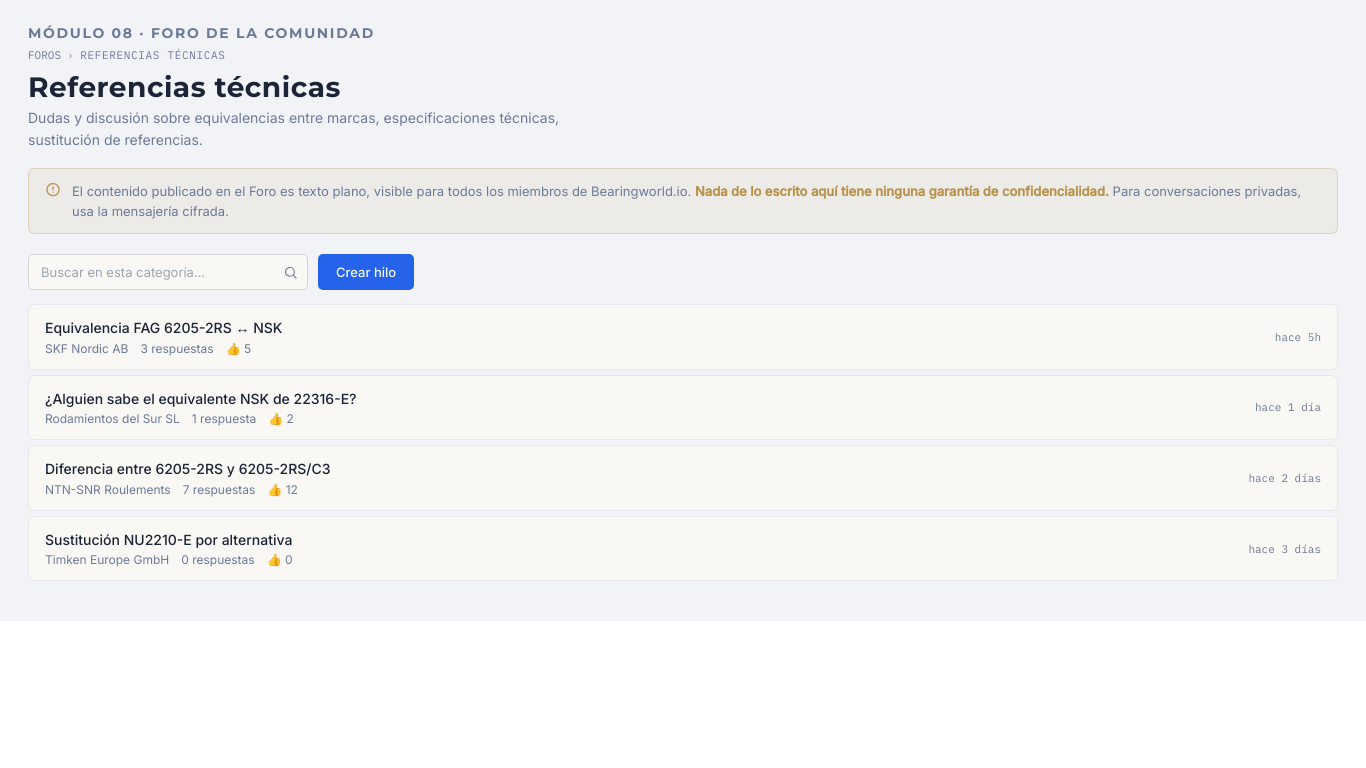
Test case: FORO-02 · cabecera (spec §3) › con el límite de RNG-FORO-06 alcanzado, "Crear hilo" NO abre el formulario y lo dice con los minutos
Check: the button "Equivalencia FAG 6205-2RS ↔ NSK" is shown, box [45,318,282,338]
Step 1. Click the button "Crear hilo" → (366, 272), box [318,254,414,290]
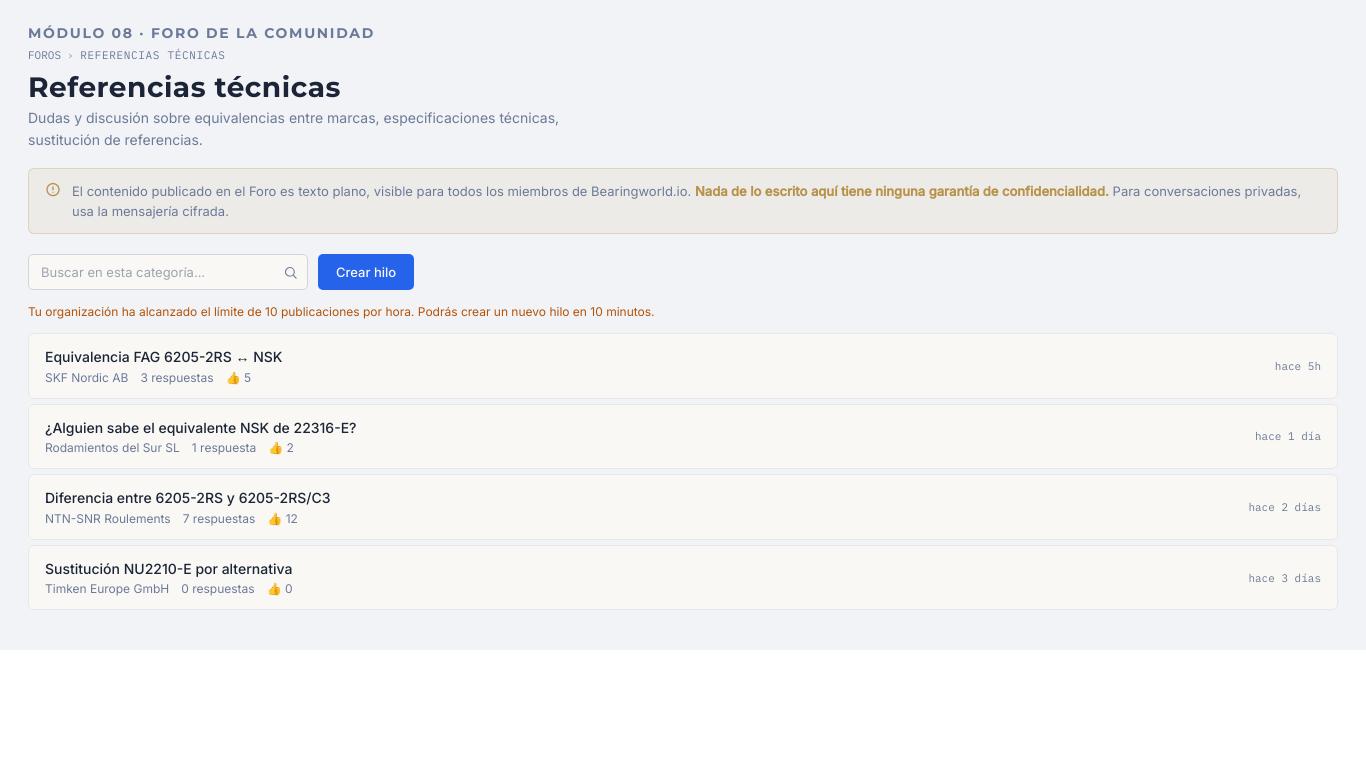
Check: the text "Tu organización ha alcanzado el límite de 10 publicaciones por hora. Podrás crear un nuevo hilo en 10 minutos." is shown, box [28,304,655,319]
